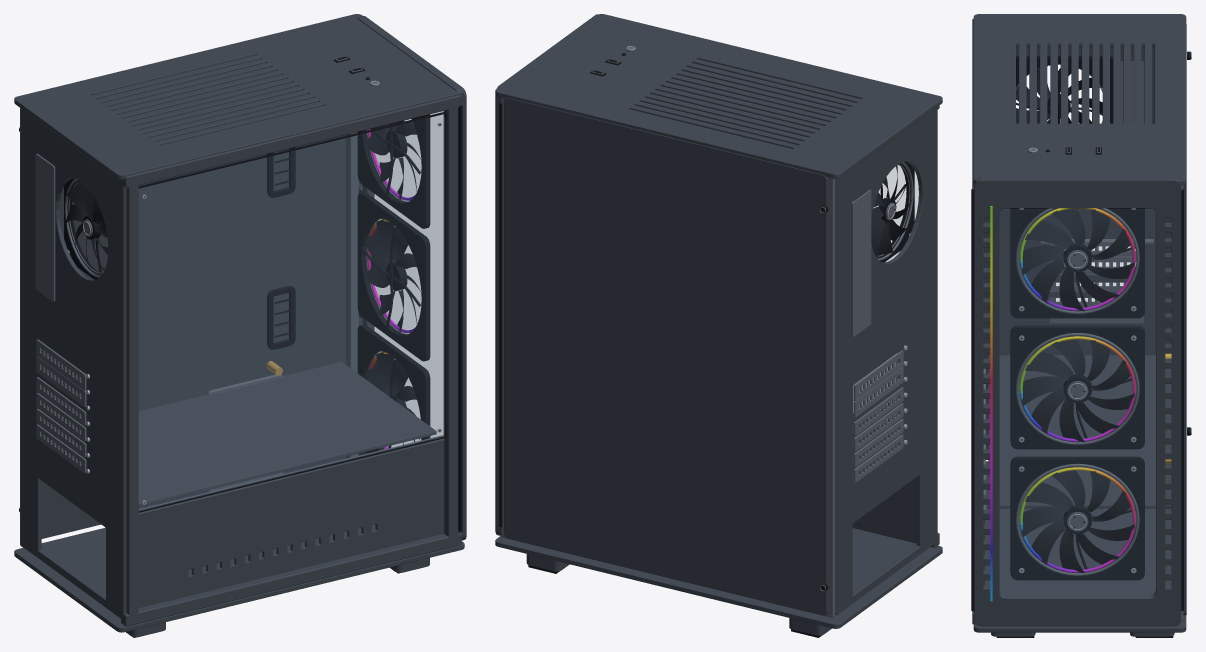
The model's file is nexrig-case.glb.
The picture shows the model from 3 angles, left to right: view 1: azimuth 30°, elevation 25°; view 2: azimuth 150°, elevation 25°; view 3: azimuth 270°, elevation 25°; orthographic projection.
Parts seen in each view (by area): view 1: Original generic mid tower, Fan rotor (×4), Unused expansion slot cover (×4), Removable motherboard I/O blank, Removable GPU slot cover (×2); view 2: Original generic mid tower, Unused expansion slot cover (×4), Removable motherboard I/O blank, Removable GPU slot cover (×2), Fan rotor; view 3: Original generic mid tower, Fan rotor (×4), Removable motherboard I/O blank, Removable GPU slot cover.
Boxes of the visible parts, box(x1,y1,x2,y2) form: Original generic mid tower: box(14, 14, 466, 637); Fan rotor (×4): box(65, 120, 420, 444); Unused expansion slot cover (×4): box(36, 377, 86, 472); Removable motherboard I/O blank: box(35, 153, 55, 301); Removable GPU slot cover (×2): box(36, 339, 86, 406); Original generic mid tower: box(495, 14, 942, 637); Unused expansion slot cover (×4): box(854, 387, 903, 482); Removable motherboard I/O blank: box(851, 189, 871, 337); Removable GPU slot cover (×2): box(854, 350, 903, 417); Fan rotor: box(871, 165, 912, 256); Original generic mid tower: box(971, 14, 1191, 637); Fan rotor (×4): box(1016, 65, 1134, 573); Removable motherboard I/O blank: box(1120, 60, 1144, 123); Removable GPU slot cover: box(1050, 256, 1136, 272).
Size of the model in its own units: 3.58 by 4.7 by 1.98.
